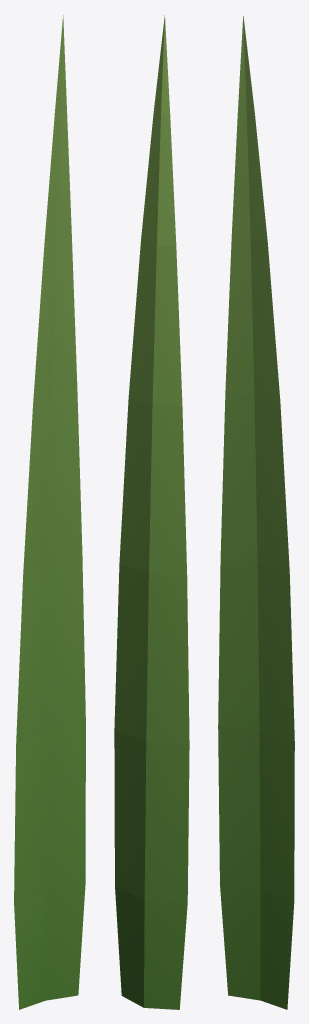
File: grass-blade.glb
3 views of the same model, side by side, from view 1: azimuth 30°, elevation 25°; view 2: azimuth 150°, elevation 25°; view 3: azimuth 330°, elevation 25° (orthographic). The views are drawn at different scales.
Parts seen in each view (by area): view 1: grass-blade; view 2: grass-blade; view 3: grass-blade.
Part boxes in pixels (x1,y1,x2,y2): grass-blade: [14, 15, 85, 1009]; grass-blade: [114, 15, 189, 1009]; grass-blade: [218, 16, 294, 1009].
Size of the model in its own units: 2.92 by 38 by 1.48.
